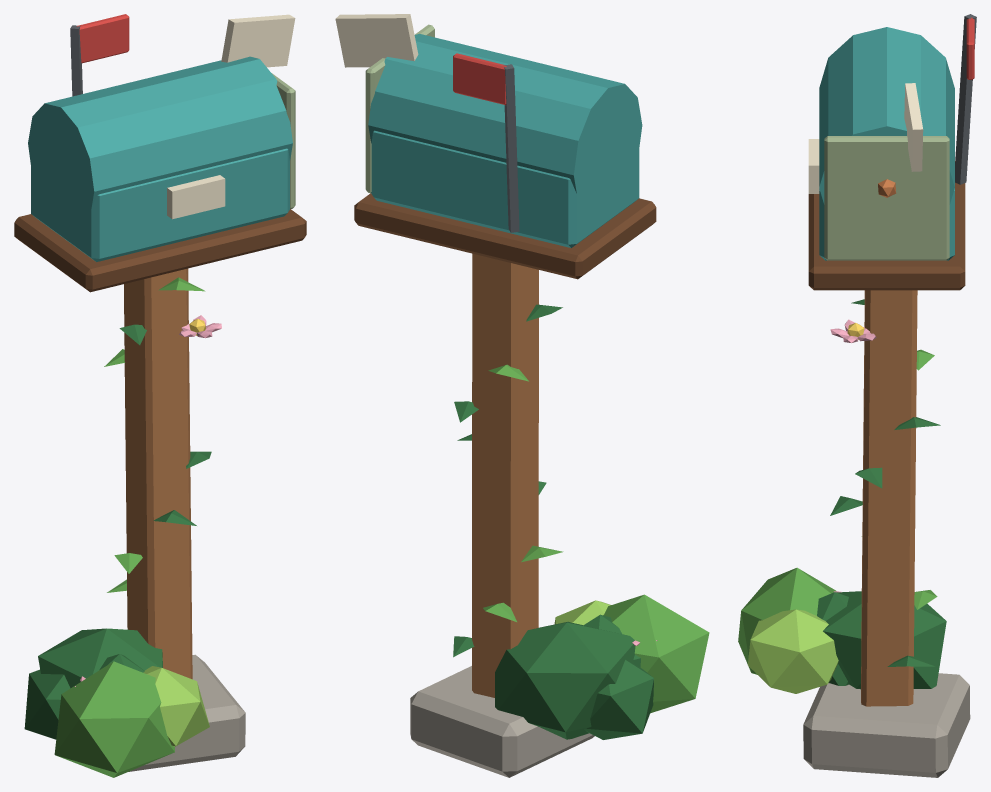
The model's file is mailbox.glb.
3 views of the same model, side by side, from view 1: azimuth 30°, elevation 25°; view 2: azimuth 150°, elevation 25°; view 3: azimuth 270°, elevation 25° (orthographic). The views are drawn at different scales.
Visible parts, largest first — view 1: Mailbox; view 2: Mailbox; view 3: Mailbox.
Part boxes in pixels (x1=…): Mailbox: x1=14, y1=14, x2=306, y2=777; Mailbox: x1=335, y1=14, x2=709, y2=777; Mailbox: x1=738, y1=14, x2=976, y2=777.
Size of the model in its own units: 0.6621 by 1.5 by 0.4572.
Materials: 1 (1 with a texture image).
